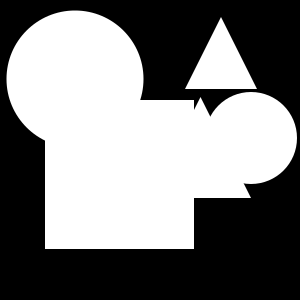circle: (45, 100, 194, 249)
rectangle: (6, 10, 144, 148), (205, 92, 297, 184)
triangle: (150, 97, 251, 198), (185, 17, 257, 89)
